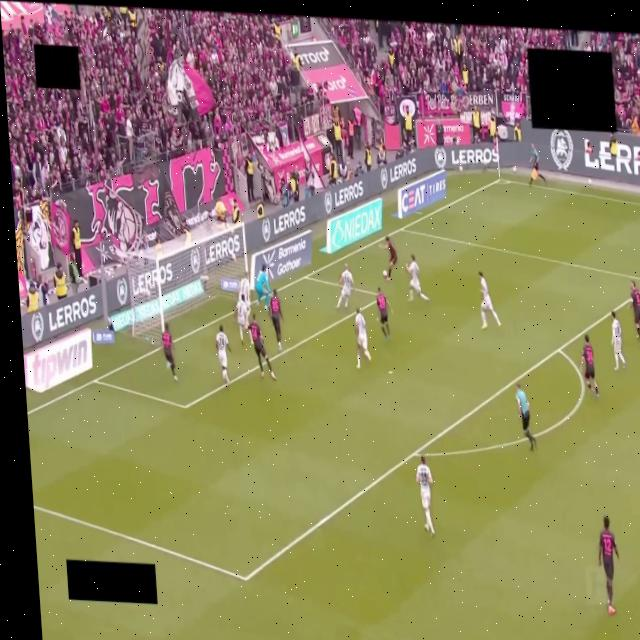ball: (382, 269, 388, 278)
player: (598, 517, 618, 614), (249, 313, 275, 380), (416, 456, 434, 537), (479, 272, 500, 329), (580, 334, 598, 397), (406, 255, 429, 300), (355, 310, 371, 368), (216, 325, 231, 384), (162, 323, 177, 381), (270, 289, 283, 350), (254, 265, 271, 311), (612, 311, 625, 371), (336, 265, 353, 309), (530, 144, 546, 185), (236, 294, 249, 344), (377, 288, 389, 339), (385, 236, 397, 280), (630, 282, 639, 339), (239, 275, 251, 306)
referee: (516, 384, 536, 450)
